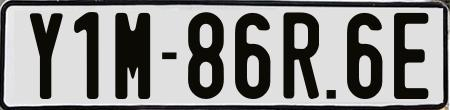1: (72, 9, 101, 97)
6: (345, 11, 381, 103), (235, 11, 270, 103)
8: (187, 12, 223, 104)
E: (394, 10, 430, 99)
M: (113, 12, 151, 98)
R: (282, 10, 322, 98)
Y: (30, 11, 64, 102)
